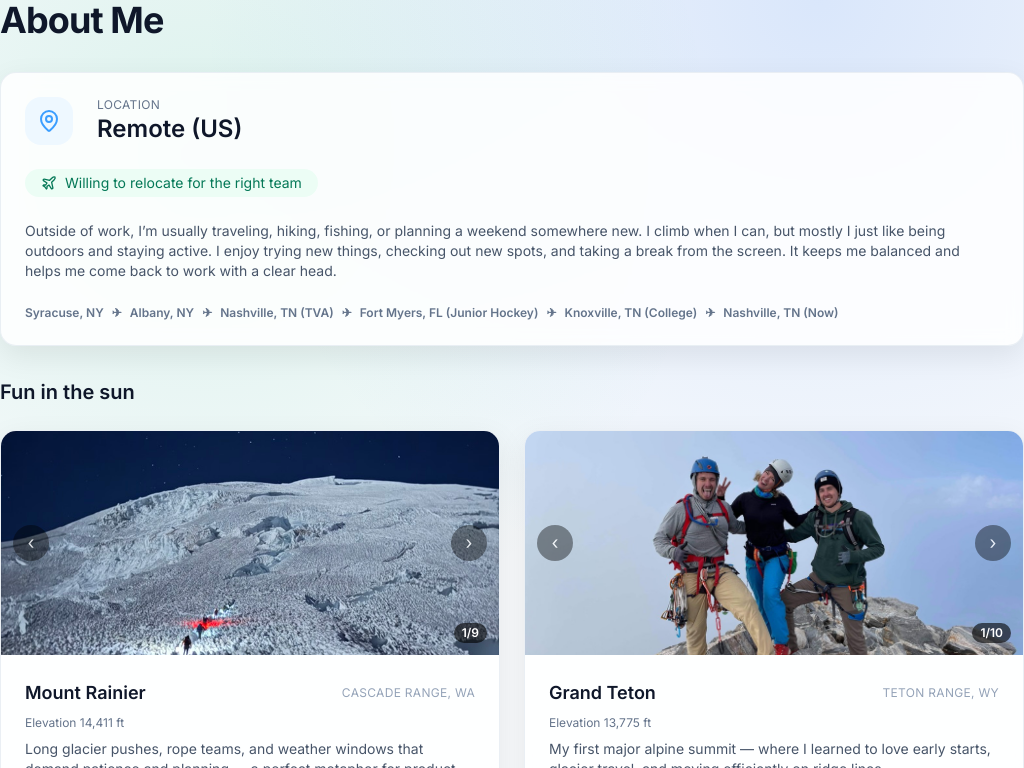
Test: AboutMe page › opens the modal and navigates via keyboard arrows
Click the button named "Expand Mount Rainier photo 1": (250,543) 1,431 -> 499,655
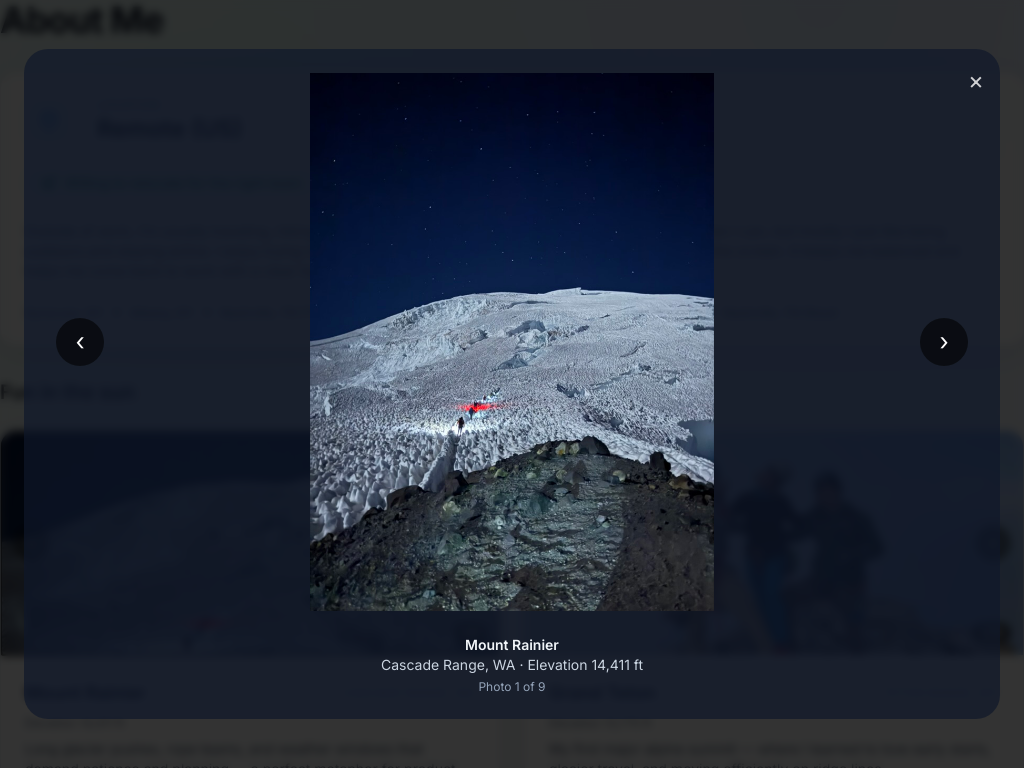
Check: the dialog is shown
Press Arrowright
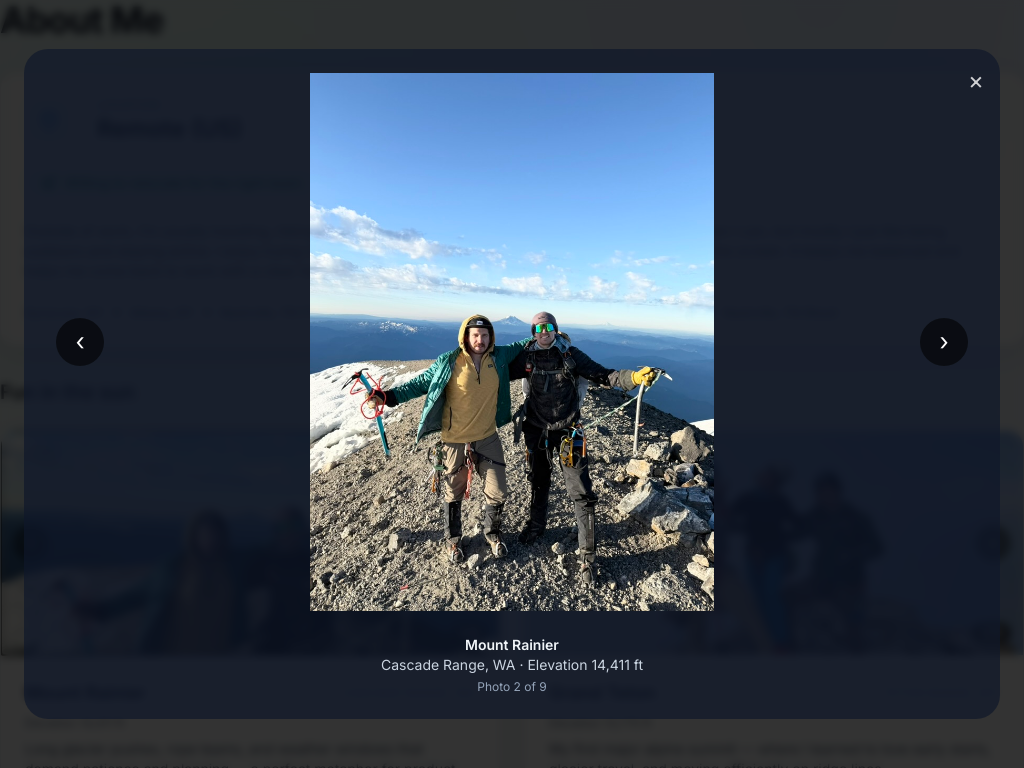
Check: the picture with alt text "Mount Rainier expanded view 2" is shown
Press Arrowleft
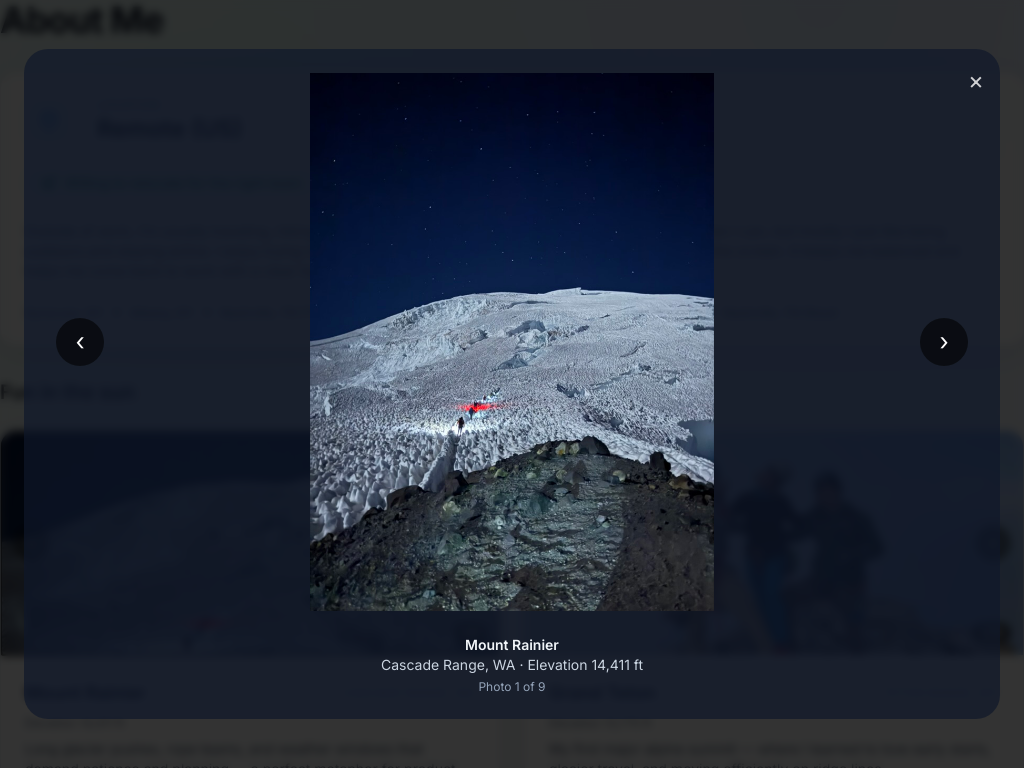
Check: the picture with alt text "Mount Rainier expanded view 1" is shown
Press Escape
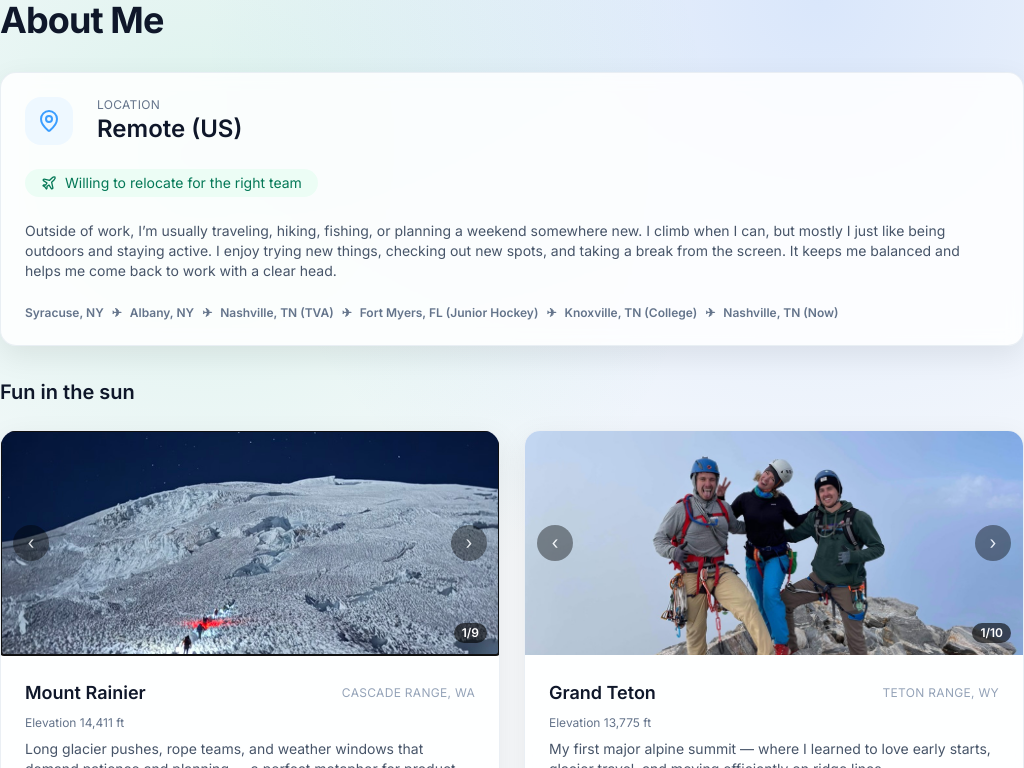
Check: the dialog is gone
